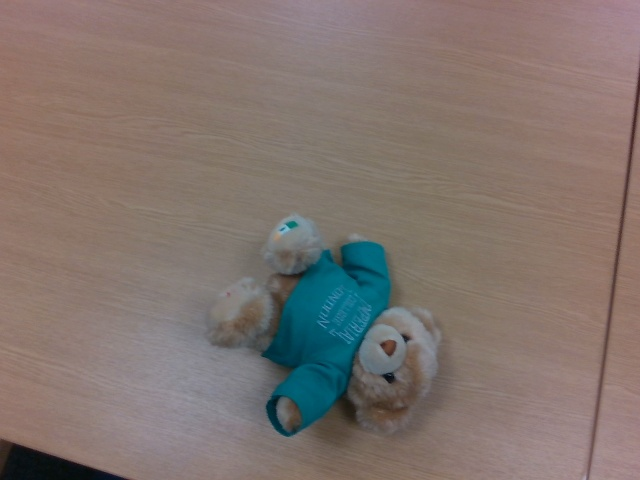teddy: (206, 214, 443, 436)
